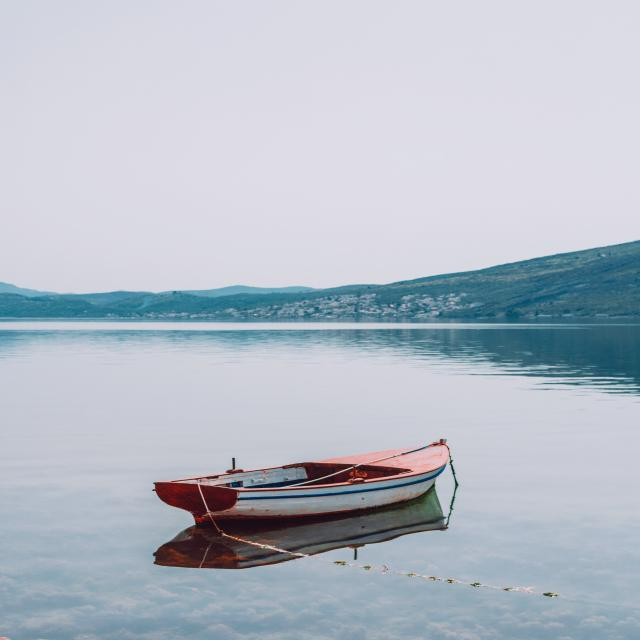ship: (152, 440, 456, 530)
